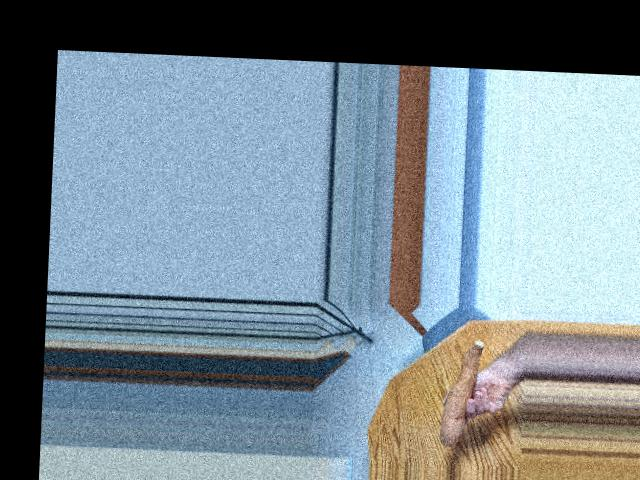sweet_potato: (433, 341, 485, 443)
